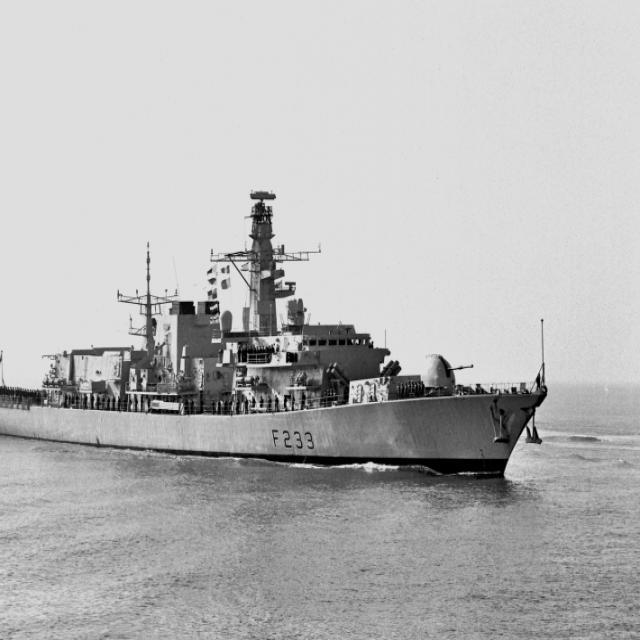Fragata: (1, 186, 550, 482)
